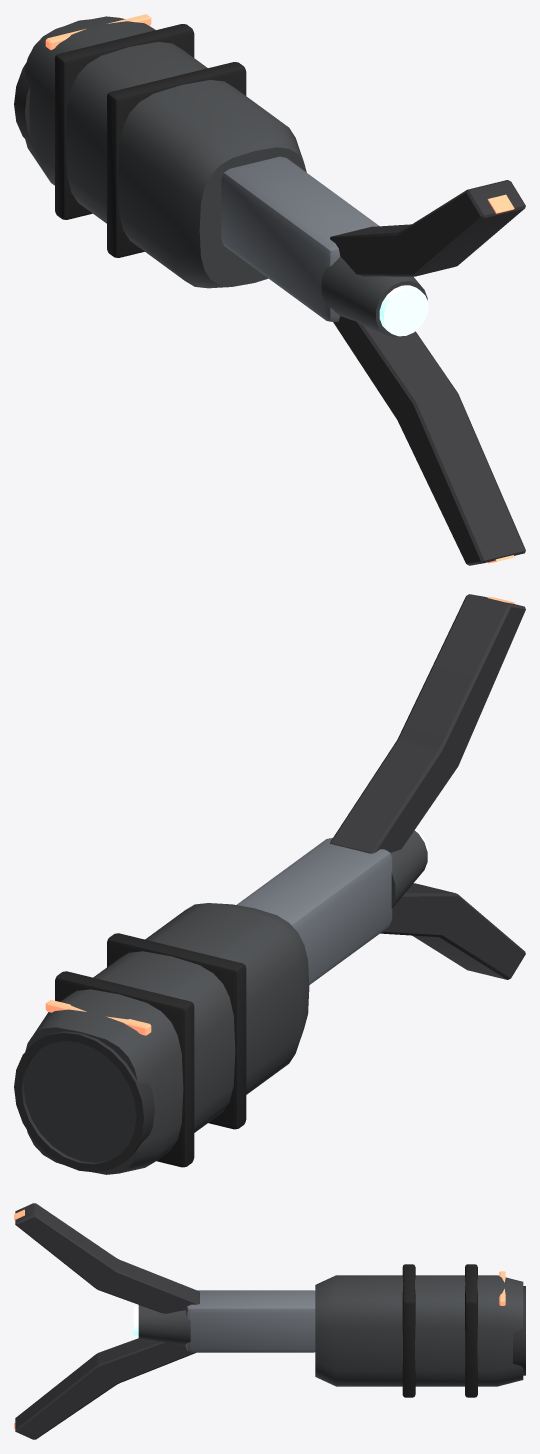
File: haken.glb
3 renders of one model, top to bottom at view 1: azimuth 30°, elevation 25°; view 2: azimuth 150°, elevation 25°; view 3: azimuth 270°, elevation 25°, orthographic. The views are drawn at different scales.
Visible parts, largest first — view 1: Body; view 2: Body; view 3: Body.
Boxes of the visible parts, x1,y1,x2,y2 form: Body: (14, 14, 525, 565); Body: (14, 594, 525, 1174); Body: (14, 1203, 525, 1439).
Bounding box in the file's own units: 0.1768 × 0.4773 × 0.985.
